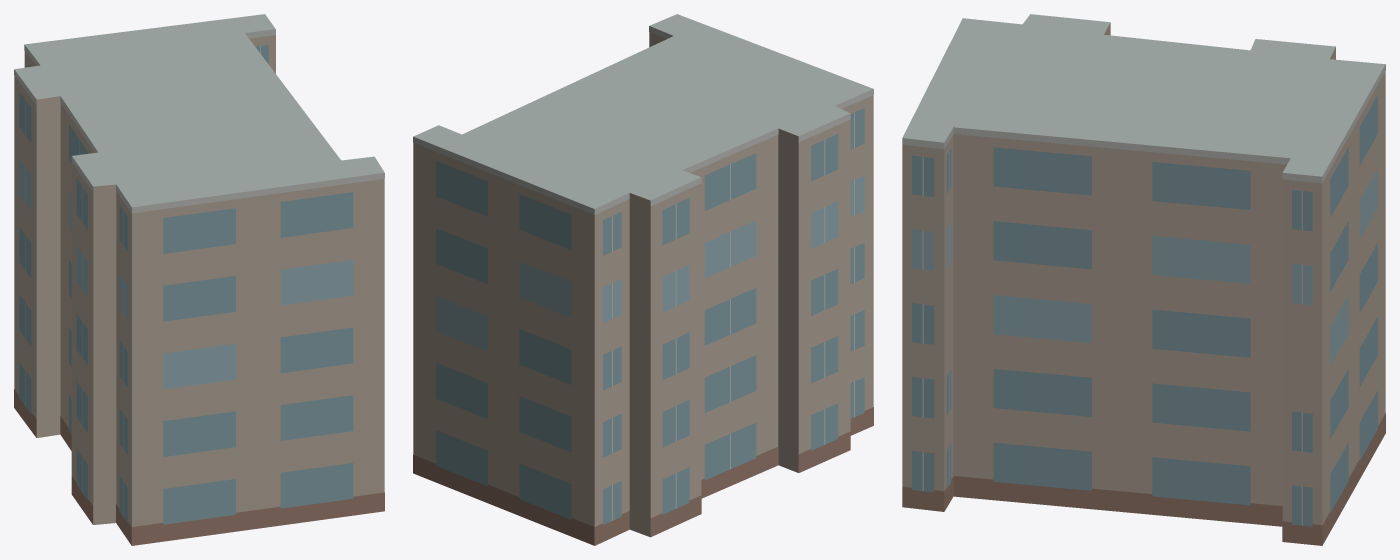
File: survey-upis-32750078.glb
3 renders of one model, left to right at view 1: azimuth 30°, elevation 25°; view 2: azimuth 150°, elevation 25°; view 3: azimuth 270°, elevation 25°, orthographic. The views are drawn at different scales.
Visible parts, largest first — view 1: survey-upis-32750078.tmp; view 2: survey-upis-32750078.tmp; view 3: survey-upis-32750078.tmp.
Boxes of the visible parts, x1,y1,x2,y2 form: survey-upis-32750078.tmp: (14,14,384,545); survey-upis-32750078.tmp: (413,14,873,545); survey-upis-32750078.tmp: (902,14,1385,545).
Bounding box in the file's own units: 12.91 × 13.65 × 16.21.
